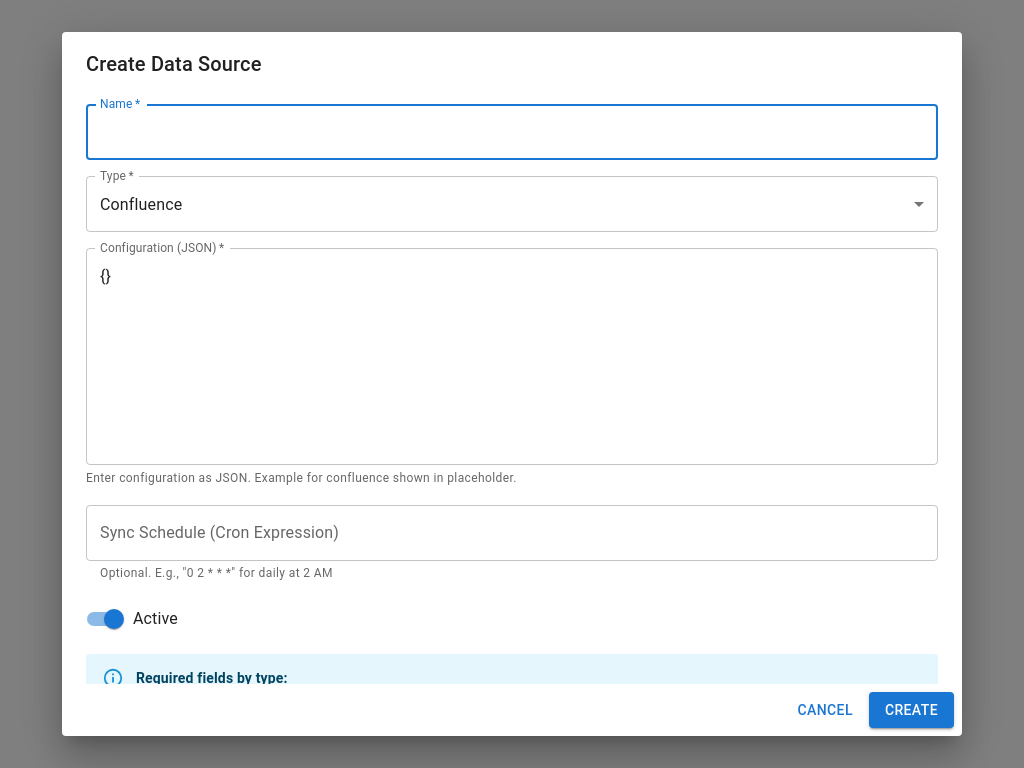
Test case: DataSourceFormModal › should show error when name field is empty
// Try to submit without filling name
Click the button "Create": {"x": 911, "y": 710} [869,692,954,728]
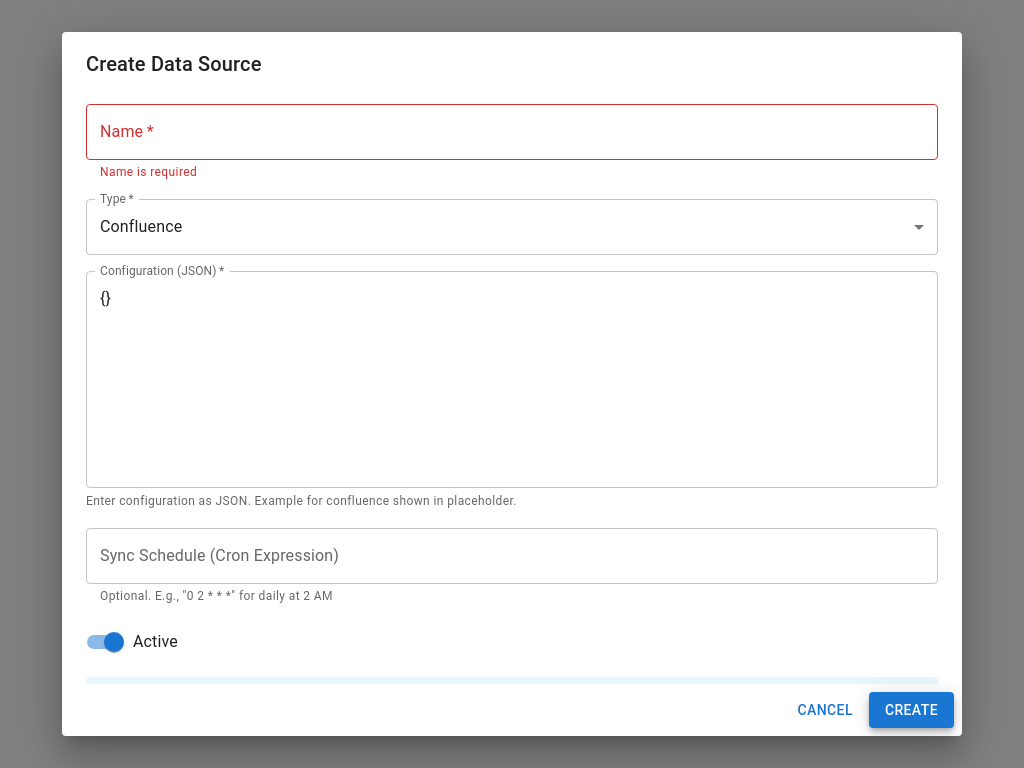
Now the text "Name is required" is shown, box [100,165,197,179]
